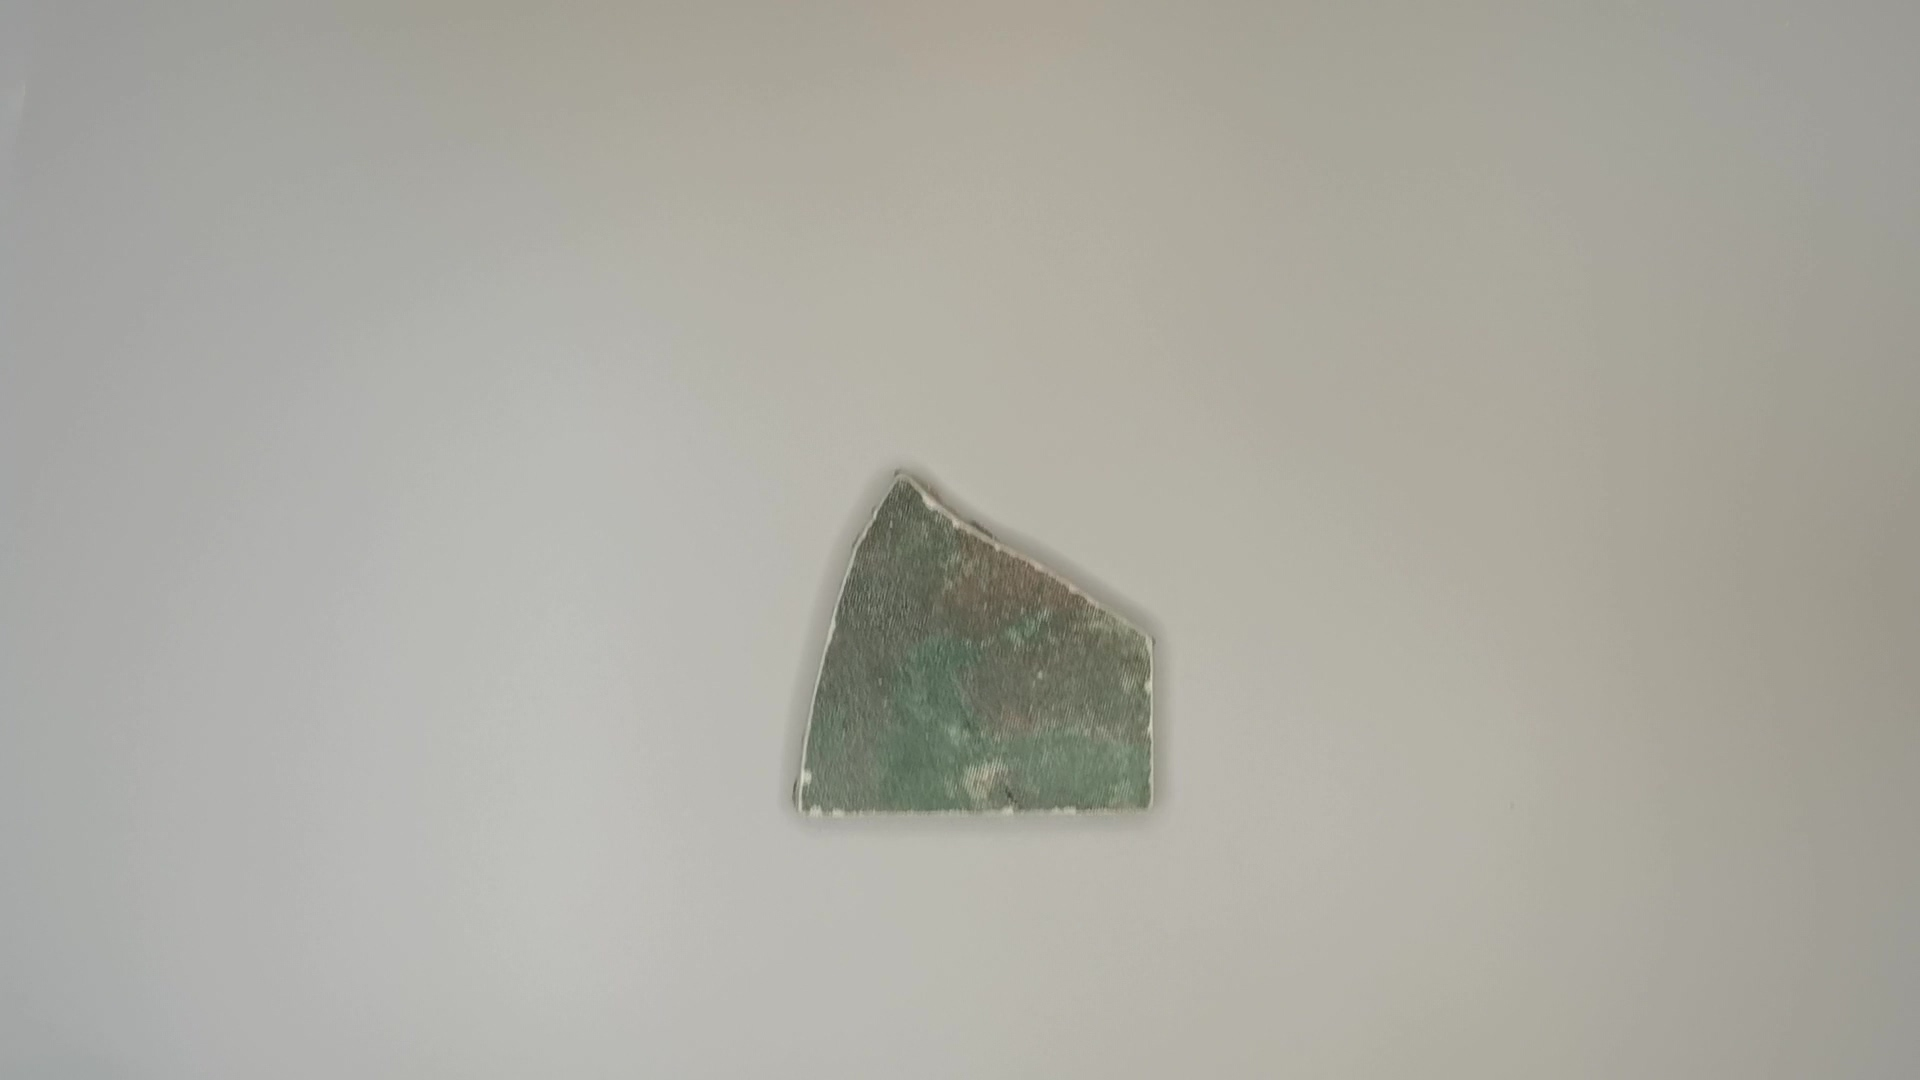ceramic: (782, 468, 1171, 822)
